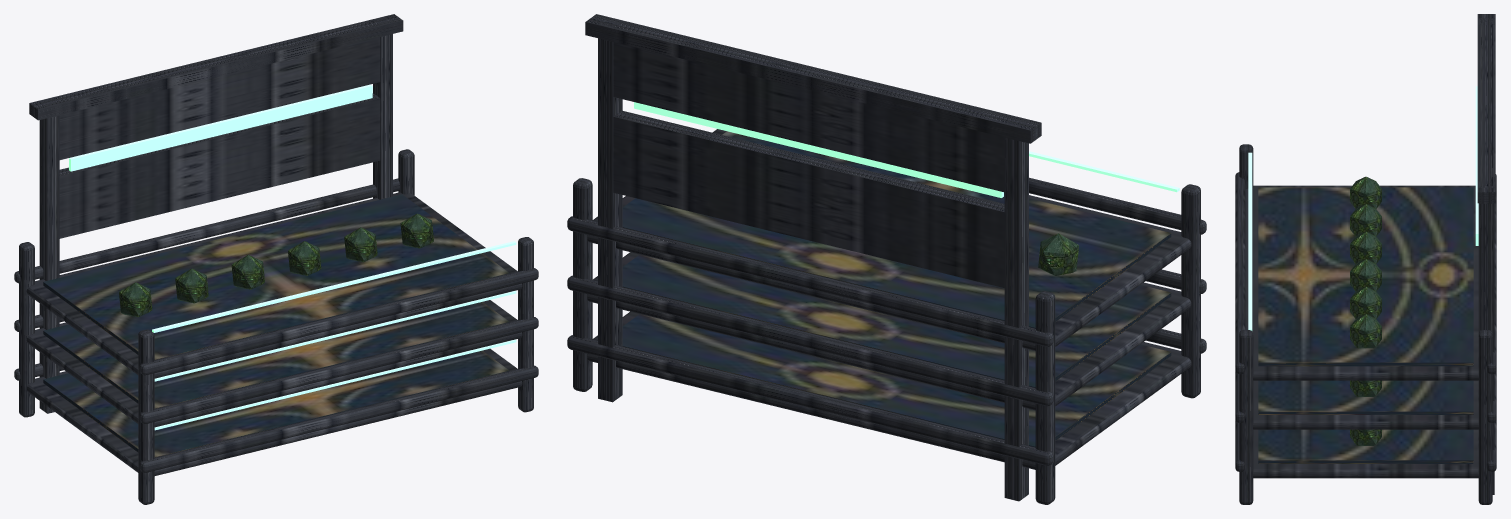
The model's file is ecosys_growrack.glb.
3 renders of one model, left to right at view 1: azimuth 30°, elevation 25°; view 2: azimuth 150°, elevation 25°; view 3: azimuth 270°, elevation 25°, orthographic. The views are drawn at different scales.
Visible parts, largest first — view 1: sight_shell, soil2, soil1, soil0, tray2, lip0_0, lip1_0, lip2_0, tray1, tray0, lip2_2, sightglow (+13 smaller); view 2: sight_shell, soil2, soil1, soil0, lip2_2, lip0_2, lip1_2, tray2, tray1, tray0, post00, post02 (+5 smaller); view 3: soil2, soil0, soil1, tray2, sight_shell, tray0, tray1, post20, post22, lip2_0, sprout2_5, led2 (+10 smaller).
Boxes of the visible parts, x1,y1,x2,y2 form: sight_shell: (29,14,403,413); soil2: (43,194,509,359); soil1: (43,302,509,408); soil0: (43,350,509,457); tray2: (26,192,522,378); lip0_0: (139,365,538,472); lip1_0: (139,317,538,423); lip2_0: (139,268,538,375); tray1: (26,300,522,427); tray0: (26,348,522,475); lip2_2: (14,178,399,283); sightglow: (69,84,372,171); sight_shell: (585,14,1041,501); soil2: (622,131,1171,328); soil1: (622,254,1171,387); soil0: (622,314,1171,447); lip2_2: (567,216,1053,346); lip0_2: (567,335,1053,465); lip1_2: (567,275,1053,406); tray2: (587,129,1191,350); tray1: (587,252,1191,410); tray0: (587,311,1191,469); post00: (1181,184,1200,398); post02: (1035,291,1055,504); soil2: (1258,187,1473,366); soil0: (1258,429,1473,463); soil1: (1258,380,1473,414); tray2: (1245,185,1478,380); sight_shell: (1477,14,1495,494); tray0: (1253,429,1478,478); tray1: (1253,380,1478,429); post20: (1239,330,1253,504); post22: (1478,330,1492,504); lip2_0: (1235,172,1245,374); sprout2_5: (1350,314,1381,348); led2: (1248,152,1252,330).
Size of the model in its own units: 2.3 by 1.7 by 1.31.
6 materials, 5 textured.
